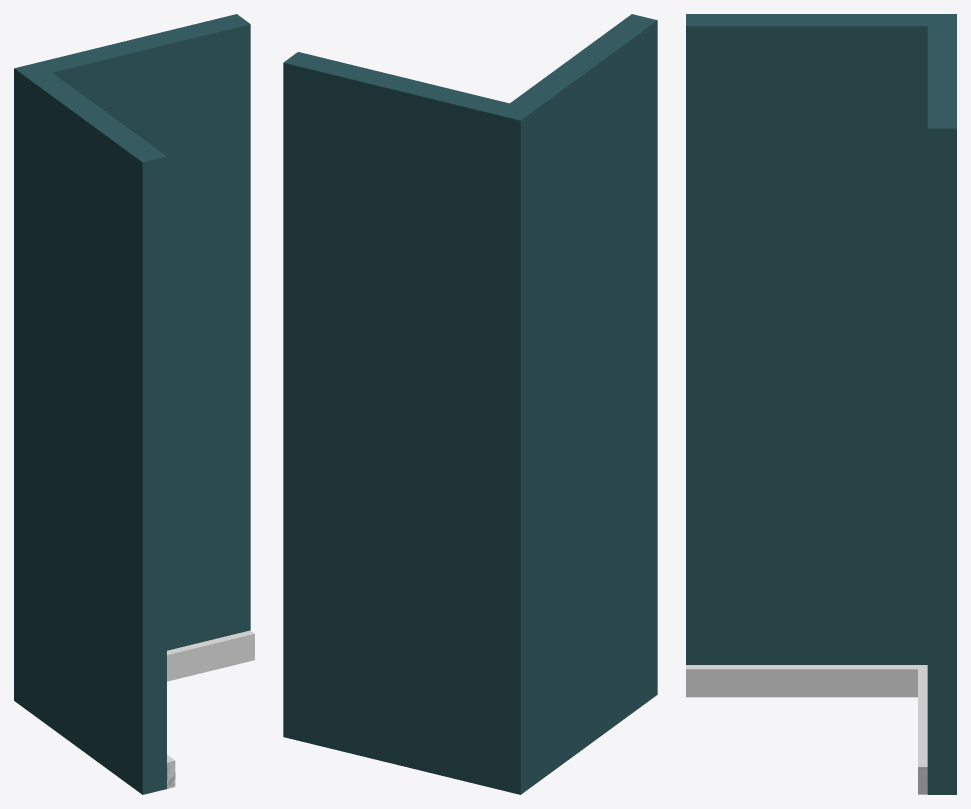
The model's file is Wall_corner_1_office.glb.
3 views of the same model, side by side, from view 1: azimuth 30°, elevation 25°; view 2: azimuth 150°, elevation 25°; view 3: azimuth 270°, elevation 25° (orthographic). The views are drawn at different scales.
Parts seen in each view (by area): view 1: Corner_Wall_1, Baseboard_1; view 2: Corner_Wall_1; view 3: Corner_Wall_1, Baseboard_1.
Boxes of the visible parts, left/top/right/bottom form: Corner_Wall_1: left=14, top=14, right=250, bottom=794; Baseboard_1: left=167, top=630, right=254, bottom=788; Corner_Wall_1: left=283, top=14, right=657, bottom=794; Corner_Wall_1: left=686, top=14, right=956, bottom=794; Baseboard_1: left=686, top=665, right=927, bottom=794.
Bounding box in the file's own units: 1.06 × 2.87 × 1.06.
